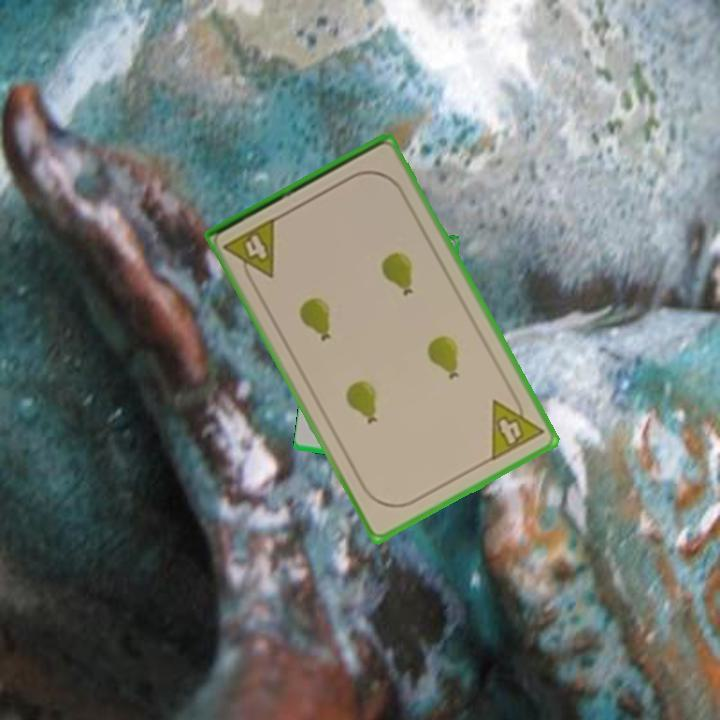4p: (487, 387, 547, 464), (220, 214, 281, 289)
